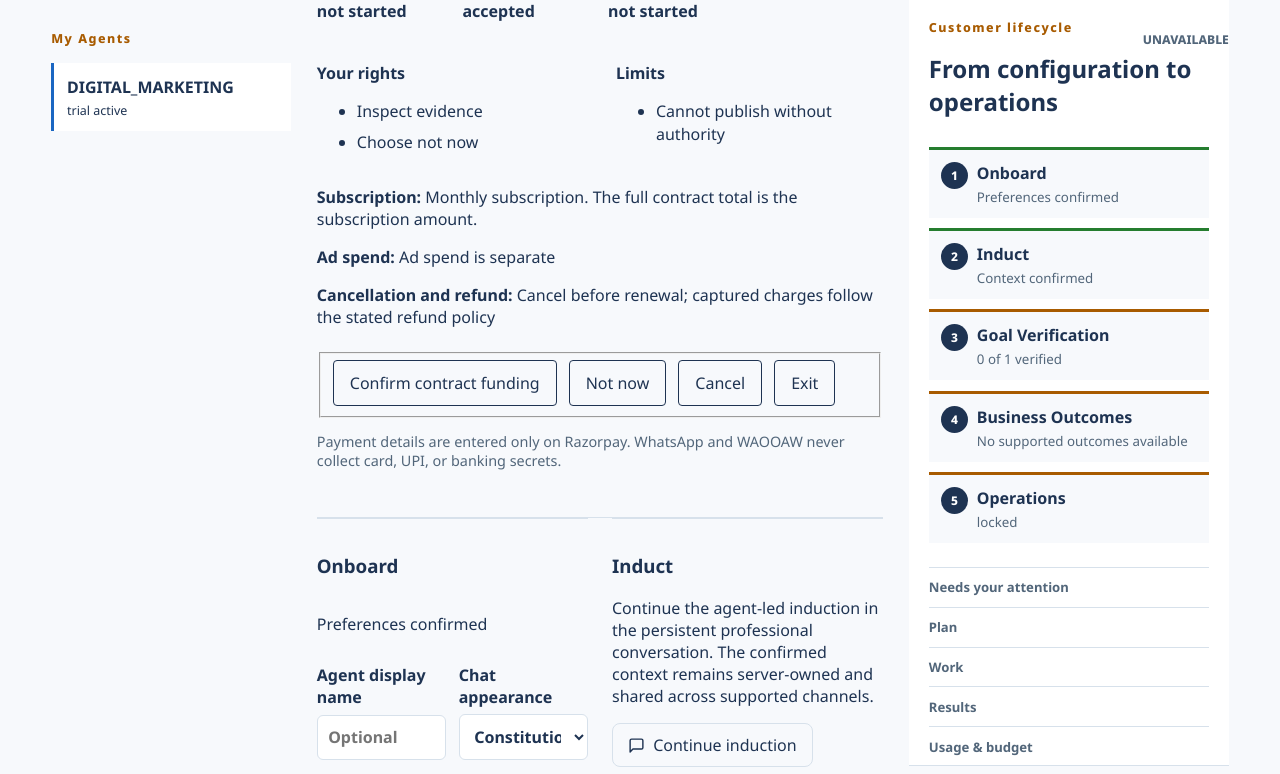
RelationshipWorkspace › renders a truthful non-collecting Demo zero-price checkout
(page scrolled)
Click the button "Confirm contract funding" at (445, 383), box [333,360,557,406]
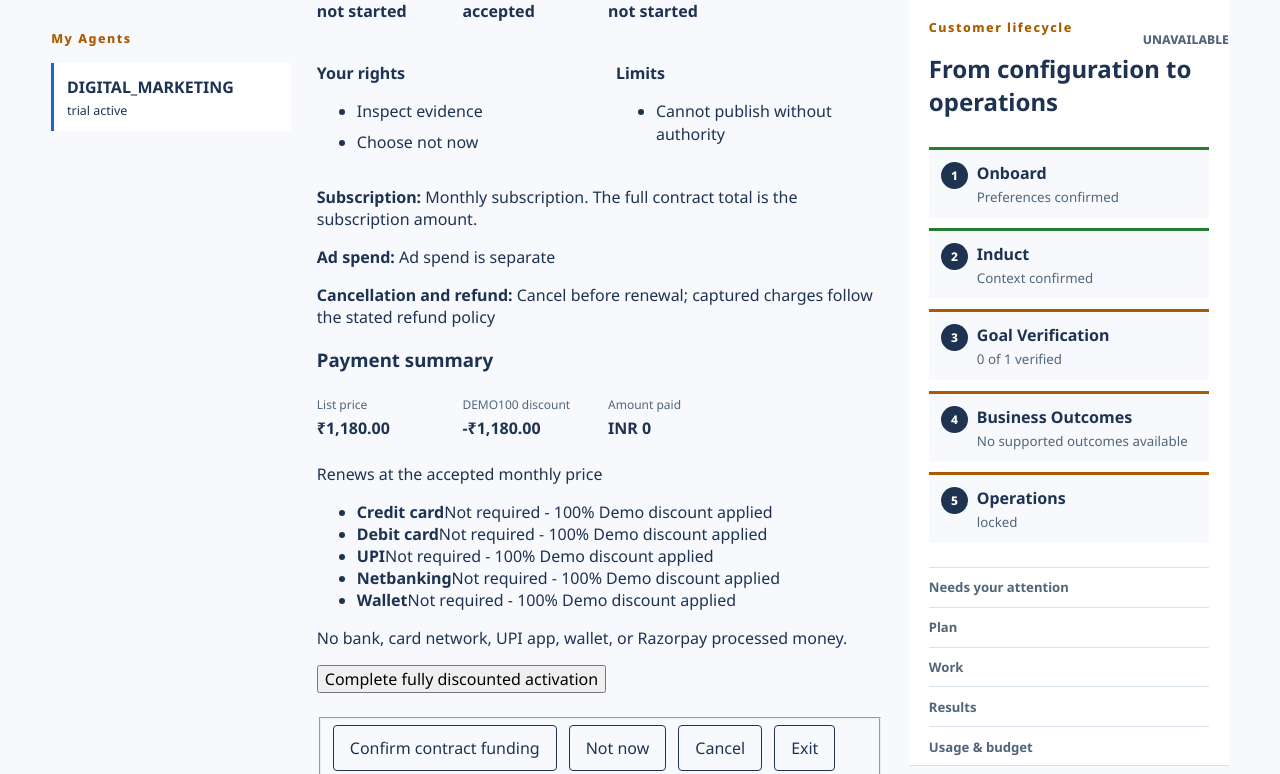
Result: the text "DEMO100 discount" is shown at [462,396,570,413]
Result: the text "INR 0" is shown at [608,418,651,440]
Result: the text "Credit card" is shown at [357,502,444,524]
Click the button "Complete fully discounted activation" at (462, 680), box [317,666,606,694]
(page scrolled)
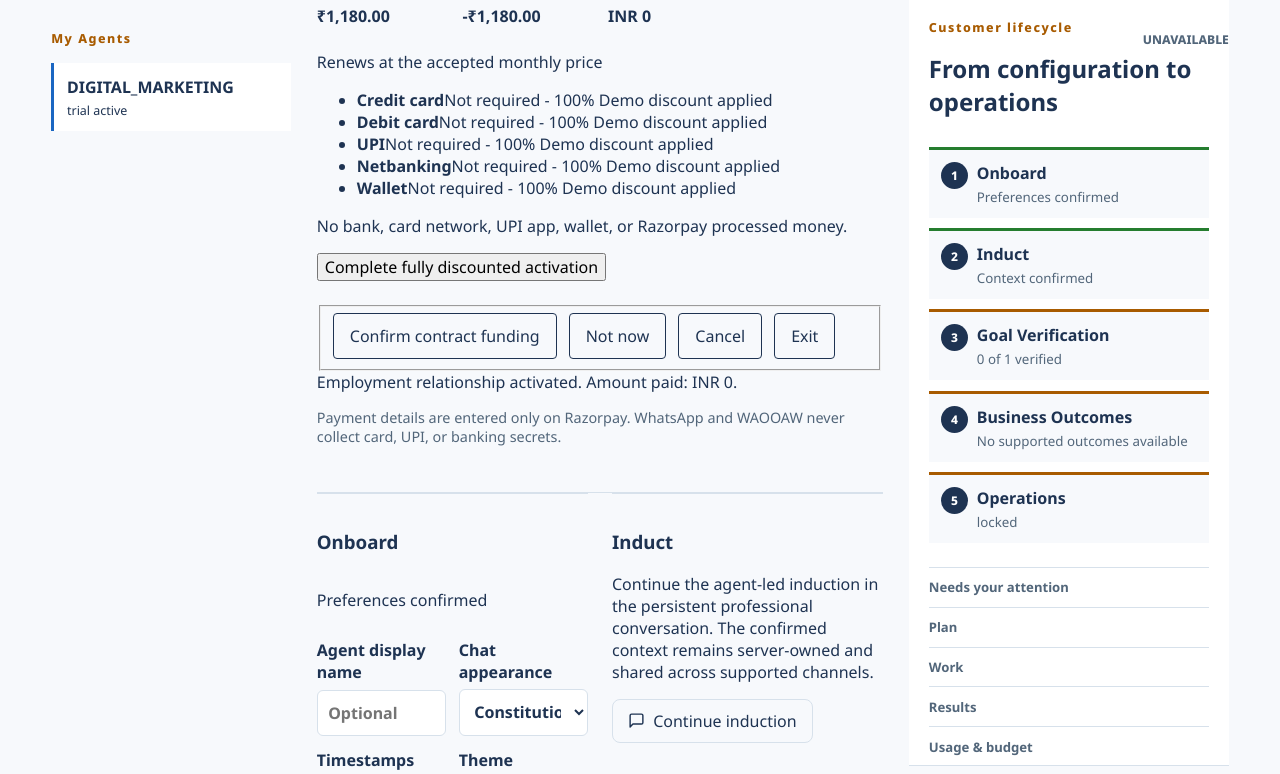
Result: the text "Employment relationship activated. Amount paid: INR 0." is shown at [317,371,737,393]
